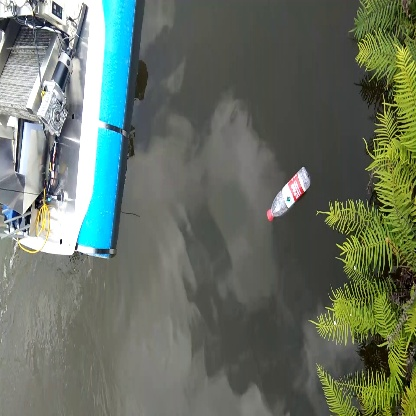bottle: (263, 165, 316, 224)
